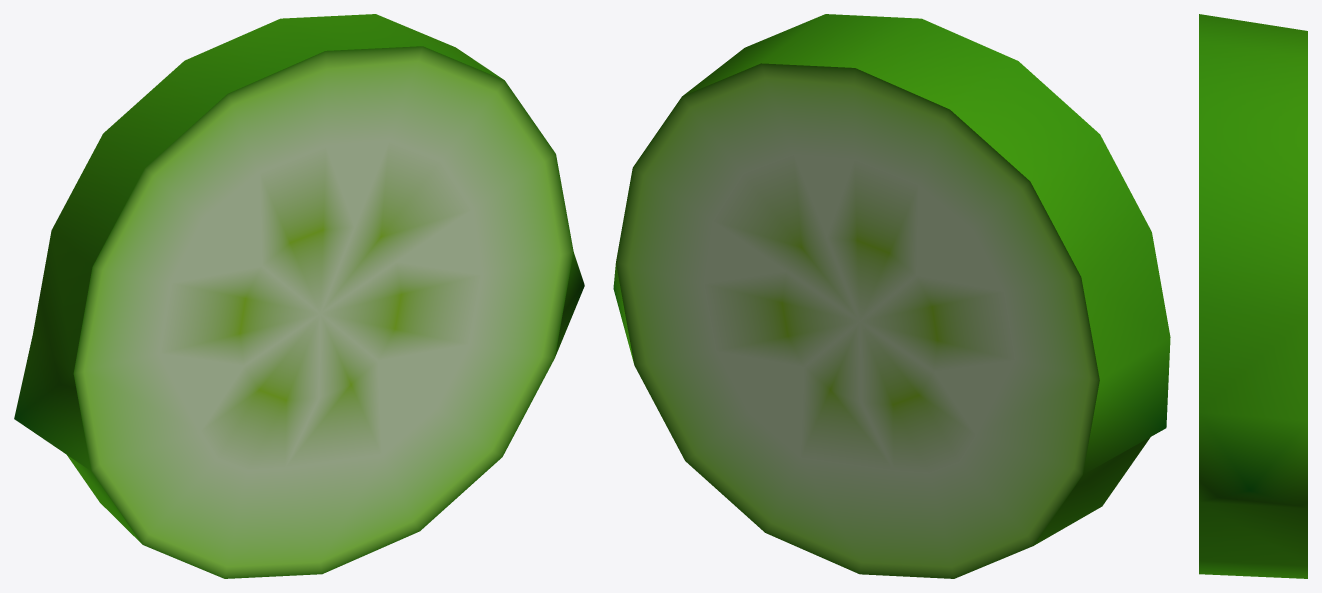
Rendered from Cucumber_Slice_15.fbx.
The picture shows the model from 3 angles, left to right: view 1: azimuth 30°, elevation 25°; view 2: azimuth 150°, elevation 25°; view 3: azimuth 270°, elevation 25°; orthographic projection. The views are drawn at different scales.
Parts seen in each view (by area): view 1: Cucumber_Slice_15; view 2: Cucumber_Slice_15; view 3: Cucumber_Slice_15.
Boxes of the visible parts, x1=… form: Cucumber_Slice_15: x1=14, y1=14, x2=584, y2=578; Cucumber_Slice_15: x1=613, y1=14, x2=1170, y2=578; Cucumber_Slice_15: x1=1199, y1=14, x2=1307, y2=578.
Size of the model in its own units: 5 by 4.42 by 0.8606.
